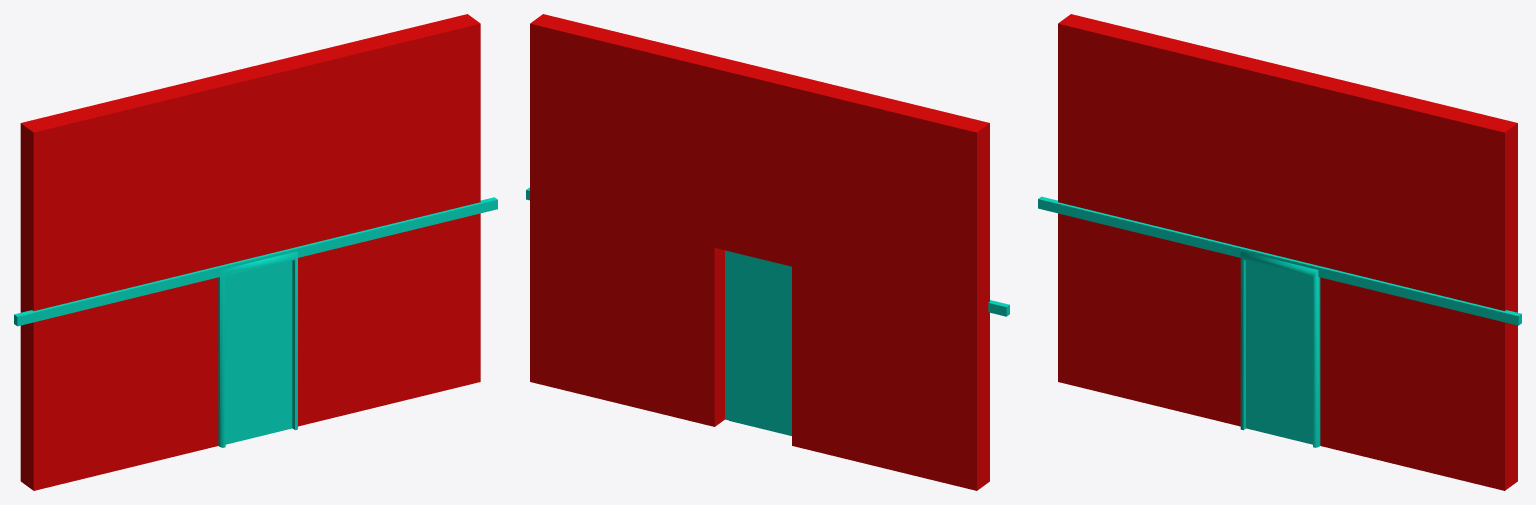
Rendered from unbreakableWall 1.fbx.
The picture shows the model from 3 angles, left to right: view 1: azimuth 30°, elevation 25°; view 2: azimuth 150°, elevation 25°; view 3: azimuth 330°, elevation 25°; orthographic projection.
Visible parts, largest first — view 1: UnbrokenWall; view 2: UnbrokenWall; view 3: UnbrokenWall.
Part boxes in pixels (x1=…): UnbrokenWall: x1=14, y1=14, x2=497, y2=490; UnbrokenWall: x1=526, y1=14, x2=1009, y2=490; UnbrokenWall: x1=1038, y1=14, x2=1521, y2=490.
Bounding box in the file's own units: 618 × 440 × 36.26.
